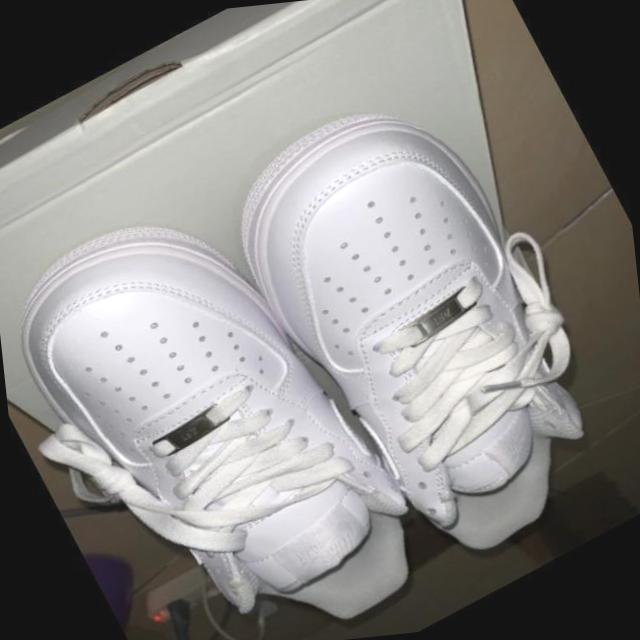nike_original_airforce: (195, 48, 640, 603), (0, 147, 453, 640)
